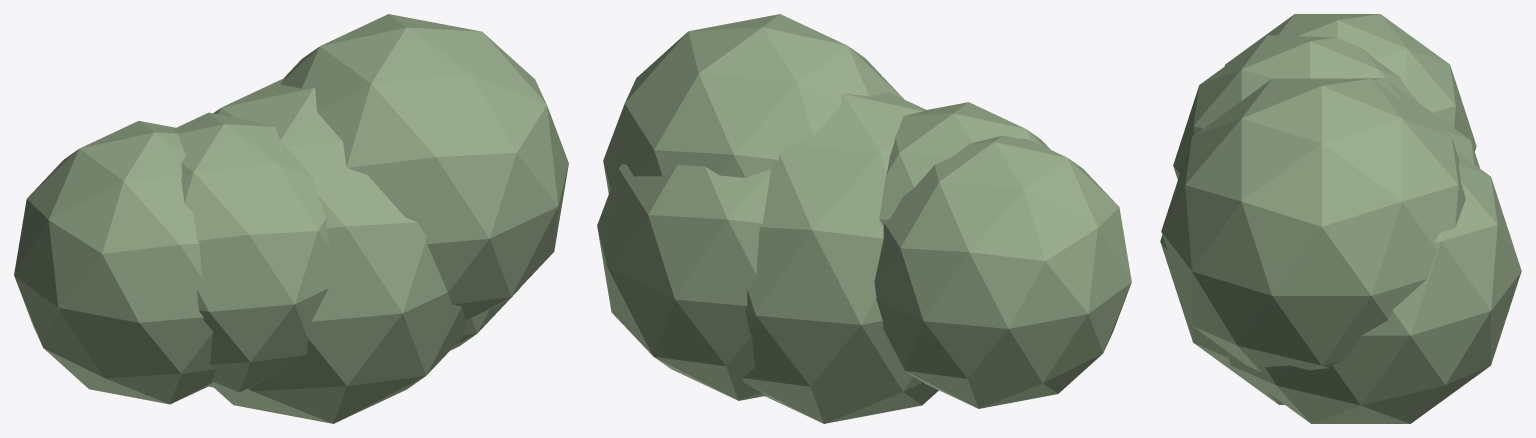
The model's file is vegetation_shrub.glb.
3 views of the same model, side by side, from view 1: azimuth 30°, elevation 25°; view 2: azimuth 150°, elevation 25°; view 3: azimuth 270°, elevation 25° (orthographic). The views are drawn at different scales.
Visible parts, largest first — view 1: Shrub_HighAltitude; view 2: Shrub_HighAltitude; view 3: Shrub_HighAltitude.
Boxes of the visible parts, x1=… form: Shrub_HighAltitude: x1=14, y1=14, x2=568, y2=423; Shrub_HighAltitude: x1=597, y1=14, x2=1131, y2=423; Shrub_HighAltitude: x1=1160, y1=14, x2=1521, y2=423.
Bounding box in the file's own units: 1.74 × 1.21 × 1.12.
